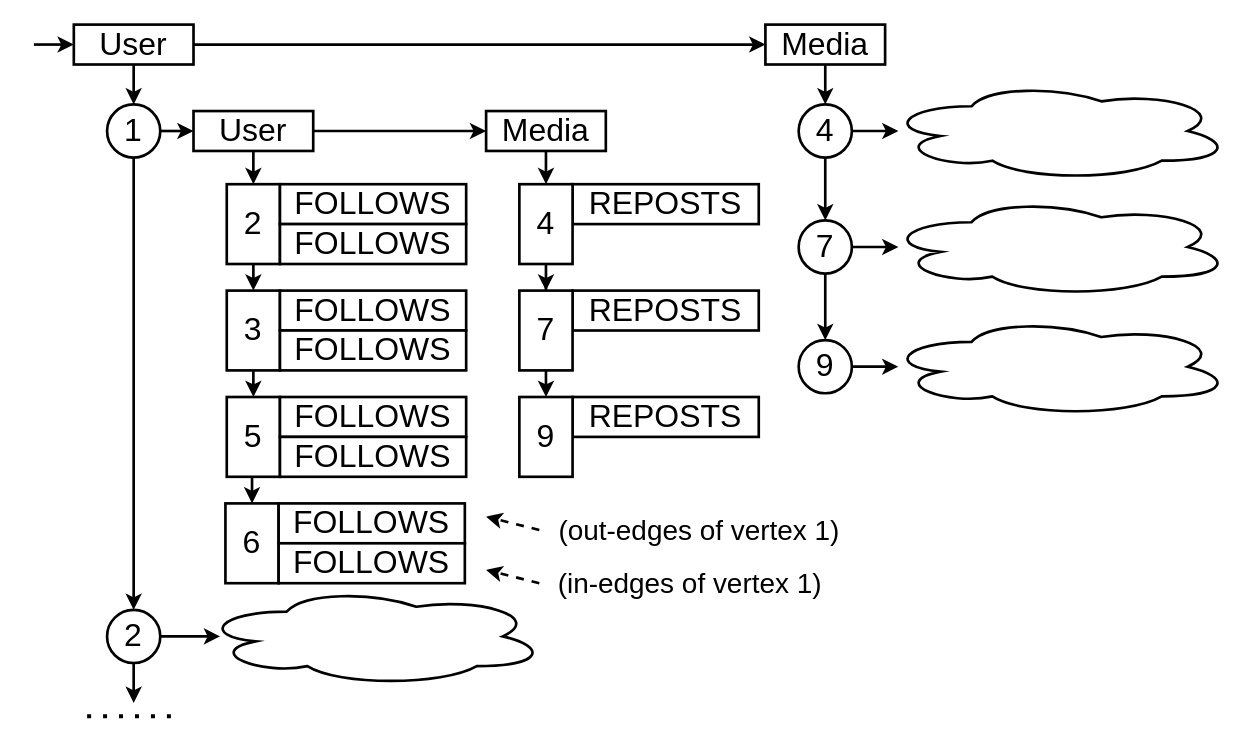
Some shapes in this 1254 by 742 pixel diagram are drawn without their labels. The centre of each missing label's shape, as x and y in pixels:
Neighbors of 2: the point at 372,636
Neighbors of 4: the point at 1057,130
Neighbors of 7: the point at 1057,246
Neighbors of 9: the point at 1057,366
